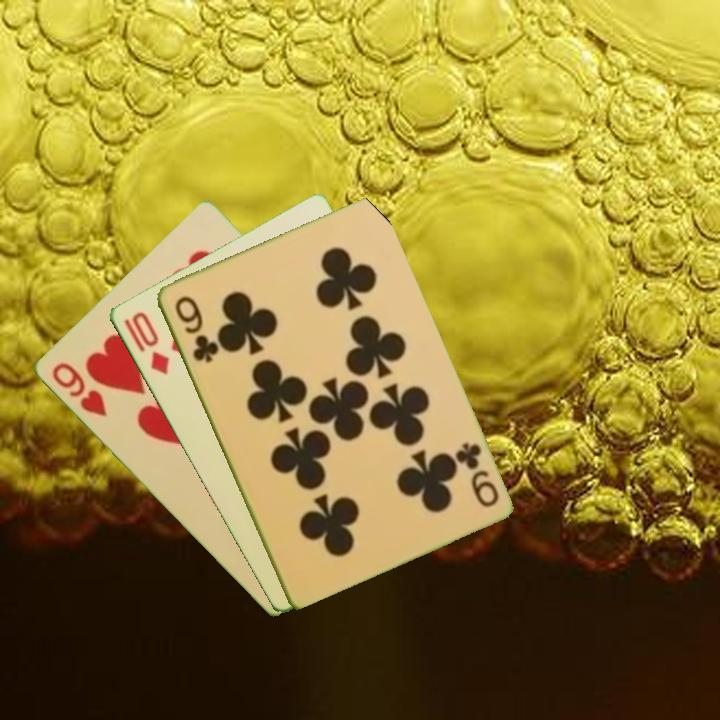10d: (120, 308, 172, 378)
9c: (450, 438, 502, 510), (170, 292, 219, 366)
9h: (48, 358, 110, 420)
